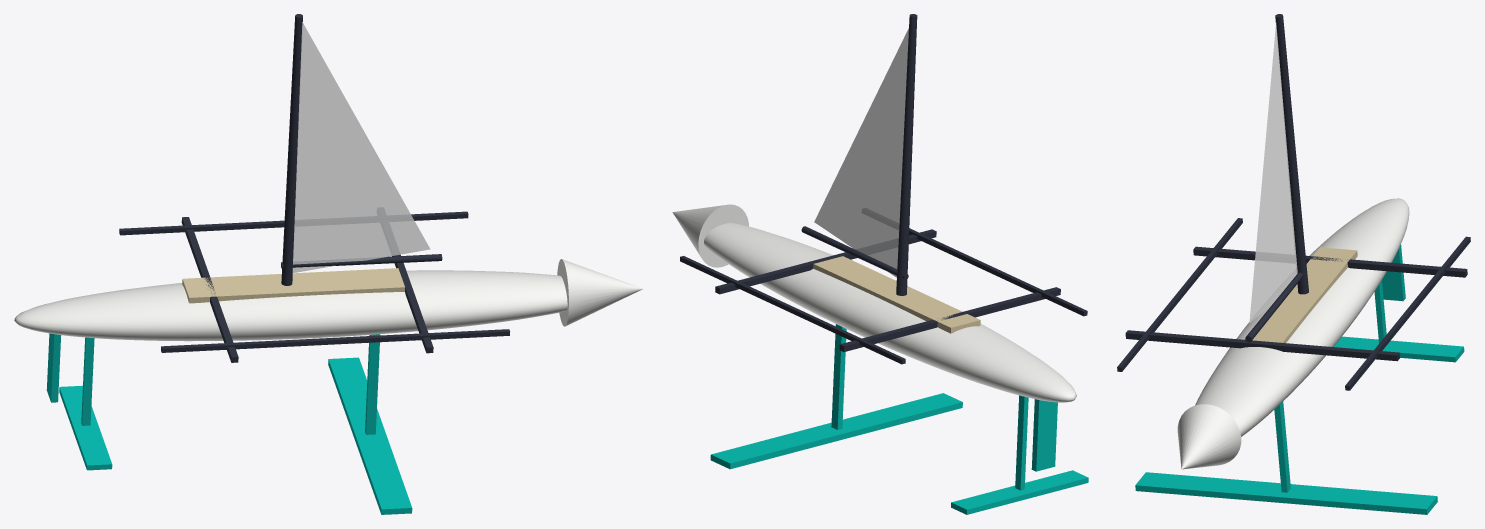
File: aquafoil-vessel.glb
The picture shows the model from 3 angles, left to right: view 1: azimuth 30°, elevation 25°; view 2: azimuth 150°, elevation 25°; view 3: azimuth 270°, elevation 25°; orthographic projection. The views are drawn at different scales.
Visible parts, largest first — view 1: slender moth hull, moth sail, timber deck accent, front hydrofoil wing, fine bow, mast, port wing rack, rudder hydrofoil wing, starboard wing rack, aft beam, front foil strut, rudder strut (+3 smaller); view 2: slender moth hull, moth sail, front hydrofoil wing, timber deck accent, mast, rudder hydrofoil wing, fine bow, aft beam, starboard wing rack, stern rudder blade, port wing rack, forward beam (+3 smaller); view 3: slender moth hull, moth sail, front hydrofoil wing, fine bow, timber deck accent, mast, forward beam, aft beam, rudder hydrofoil wing, port wing rack, starboard wing rack, front foil strut (+3 smaller).
Boxes of the visible parts, bbox=[...] form: slender moth hull: bbox=[14, 270, 567, 341]; moth sail: bbox=[292, 22, 430, 272]; timber deck accent: bbox=[182, 268, 404, 303]; front hydrofoil wing: bbox=[328, 357, 412, 514]; fine bow: bbox=[557, 259, 643, 326]; mast: bbox=[281, 14, 302, 285]; port wing rack: bbox=[161, 329, 510, 352]; rudder hydrofoil wing: bbox=[59, 385, 112, 470]; starboard wing rack: bbox=[119, 211, 468, 235]; aft beam: bbox=[181, 217, 238, 362]; front foil strut: bbox=[365, 334, 380, 434]; rudder strut: bbox=[81, 337, 94, 425]; slender moth hull: bbox=[704, 223, 1076, 402]; moth sail: bbox=[814, 28, 908, 277]; front hydrofoil wing: bbox=[710, 393, 962, 469]; timber deck accent: bbox=[813, 256, 980, 333]; mast: bbox=[896, 14, 917, 295]; rudder hydrofoil wing: bbox=[951, 470, 1088, 514]; fine bow: bbox=[672, 204, 748, 267]; aft beam: bbox=[839, 287, 1060, 351]; starboard wing rack: bbox=[680, 256, 905, 364]; stern rudder blade: bbox=[1031, 399, 1057, 471]; port wing rack: bbox=[909, 228, 1087, 316]; forward beam: bbox=[715, 229, 936, 294]; slender moth hull: bbox=[1195, 198, 1409, 436]; moth sail: bbox=[1249, 22, 1297, 323]; front hydrofoil wing: bbox=[1135, 472, 1437, 514]; fine bow: bbox=[1177, 404, 1241, 469]; timber deck accent: bbox=[1252, 247, 1357, 342]; mast: bbox=[1275, 14, 1308, 294]; forward beam: bbox=[1125, 330, 1399, 361]; aft beam: bbox=[1193, 246, 1467, 277]; rudder hydrofoil wing: bbox=[1334, 336, 1464, 362]; port wing rack: bbox=[1117, 218, 1242, 371]; starboard wing rack: bbox=[1345, 236, 1470, 390]; front foil strut: bbox=[1274, 401, 1290, 492].
Size of the model in its own units: 4.88 by 4.08 by 2.88.
